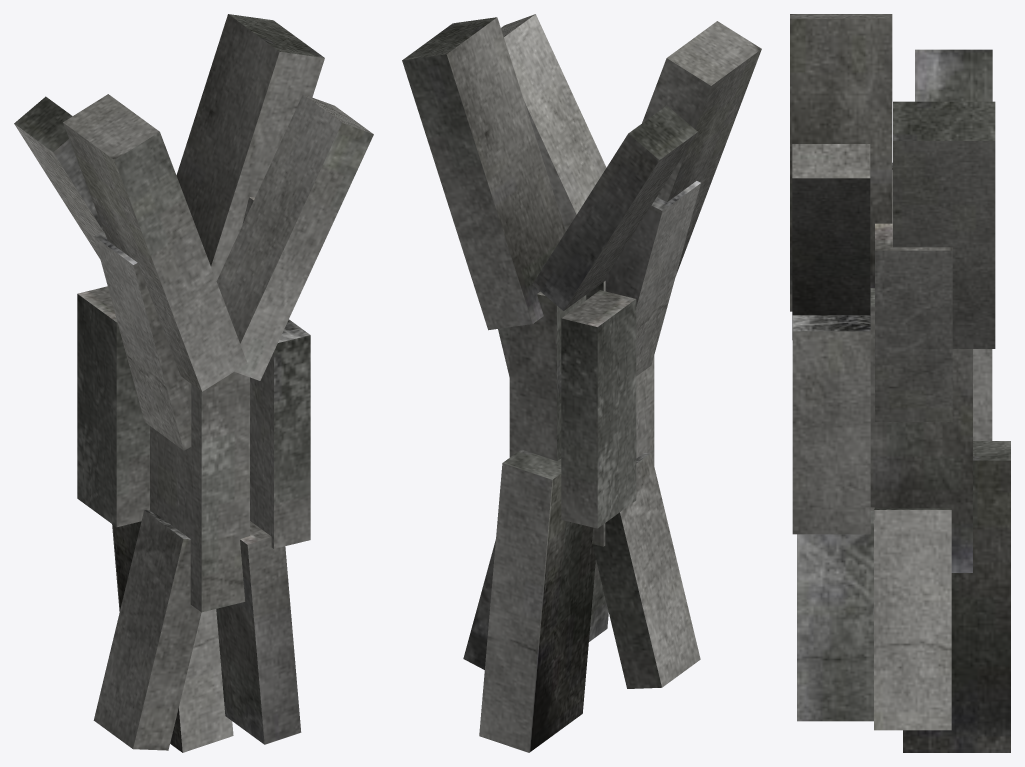
Rendered from R1_Wall.obj.
The picture shows the model from 3 angles, left to right: view 1: azimuth 30°, elevation 25°; view 2: azimuth 150°, elevation 25°; view 3: azimuth 270°, elevation 25°; orthographic projection.
Parts seen in each view (by area): view 1: Cube; view 2: Cube; view 3: Cube.
Boxes of the visible parts, bbox=[...] form: Cube: bbox=[14, 14, 373, 752]; Cube: bbox=[402, 14, 761, 752]; Cube: bbox=[790, 14, 1010, 752].
Bounding box in the file's own units: 2.69 × 6.69 × 1.98.
1 material, 1 textured.
